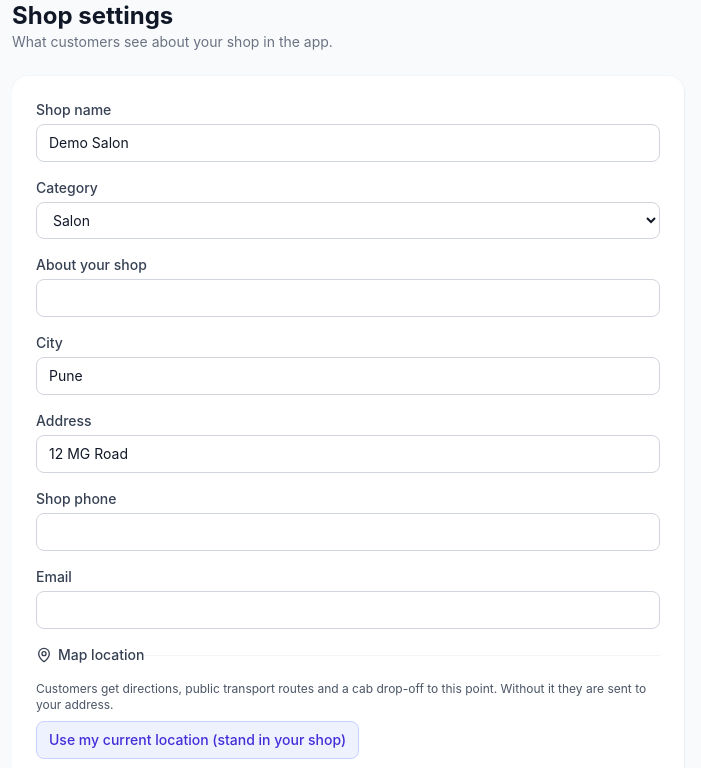
SettingsPage map location › fills them in from this device
The width and height of the screenshot is (701, 768).
Click the button "Use my current location (stand in your shop)" at (198, 740), box [36, 721, 359, 759]
(page scrolled)
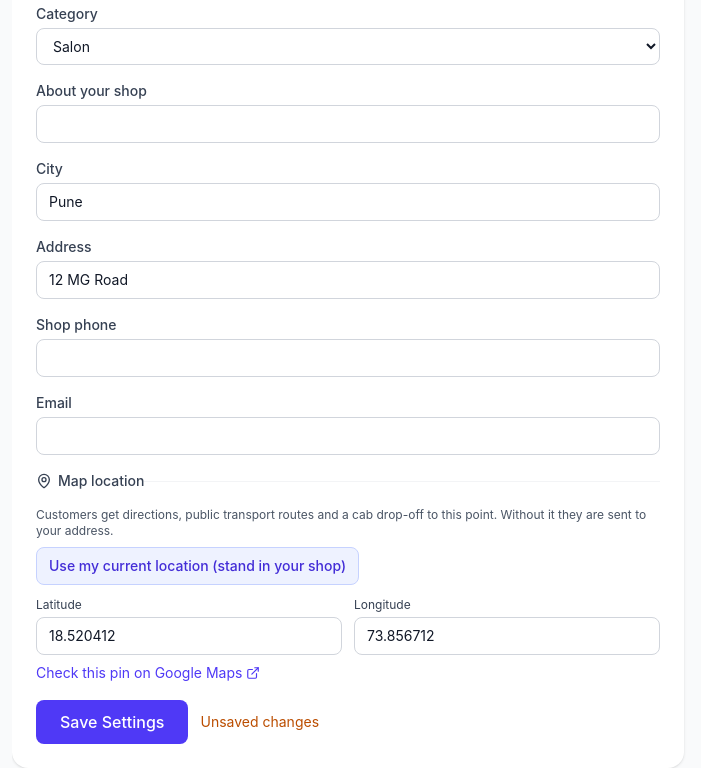
Expected: the field labelled "Latitude" holds "18.520412", [36, 617, 342, 655]
Expected: the field labelled "Longitude" holds "73.856712", [354, 617, 660, 655]
